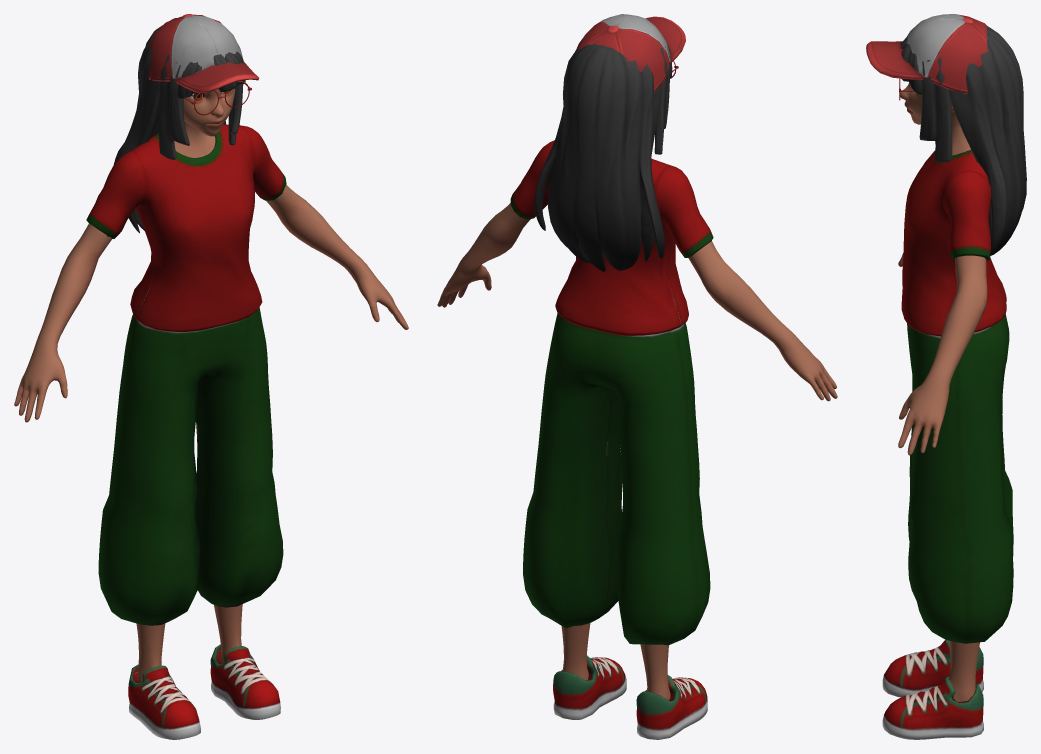
The model's file is Bizo_Mesh.obj.
3 views of the same model, side by side, from view 1: azimuth 30°, elevation 25°; view 2: azimuth 150°, elevation 25°; view 3: azimuth 270°, elevation 25° (orthographic).
Parts seen in each view (by area): view 1: Bizo_Mesh_0; view 2: Bizo_Mesh_0; view 3: Bizo_Mesh_0.
Boxes of the visible parts, bbox=[...] form: Bizo_Mesh_0: bbox=[14, 14, 408, 739]; Bizo_Mesh_0: bbox=[437, 14, 837, 739]; Bizo_Mesh_0: bbox=[866, 14, 1026, 739].
Size of the model in its own units: 1.06 by 1.81 by 0.381.
1 material, 1 textured.
